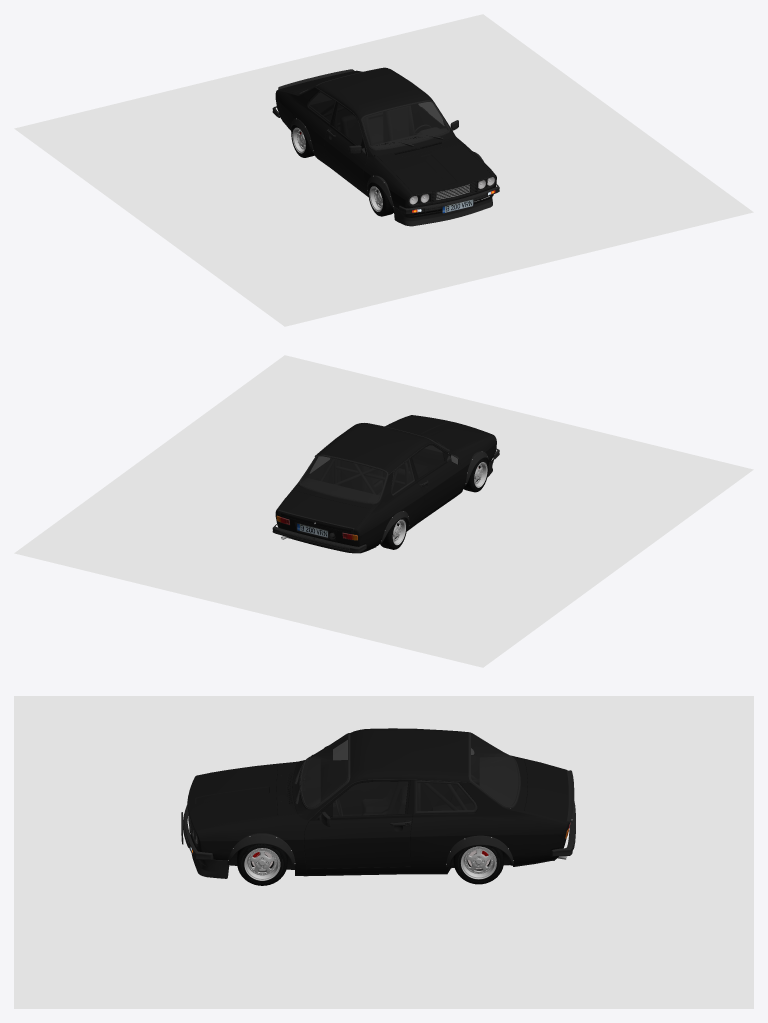
The model's file is dacia_1410_sport_tuned.glb.
The picture shows the model from 3 angles, top to bottom: view 1: azimuth 30°, elevation 25°; view 2: azimuth 150°, elevation 25°; view 3: azimuth 270°, elevation 25°; orthographic projection. The views are drawn at different scales.
Visible parts, largest first — view 1: GroundPlane_ground_0, Body_paint_0, Interior_black_flat_0, Interior_black_shiny_0, Glass2_glass_0, Interior_black_rubber_0, Glass3_glass_0; view 2: GroundPlane_ground_0, Body_paint_0, Interior_black_flat_0, Glass4_glass_0, Interior_black_rubber_0, Interior_black_shiny_0, Glass3_glass_0; view 3: GroundPlane_ground_0, Body_paint_0, Interior_black_flat_0, Glass1_glass_0, Interior_black_shiny_0, Interior_black_rubber_0, Glass4_glass_0, Glass2_glass_0, tire_T1R1_Yokohama_0, tire_T1R5_Yokohama_0, rim_RSL1_Steel_0, rim_RSL5_Steel_0.
Part boxes in pixels (<box>): GroundPlane_ground_0: <box>14,14,753,326</box>; Body_paint_0: <box>275,68,496,215</box>; Interior_black_flat_0: <box>291,91,494,204</box>; Interior_black_shiny_0: <box>275,68,497,226</box>; Glass2_glass_0: <box>362,102,448,148</box>; Interior_black_rubber_0: <box>272,67,499,214</box>; Glass3_glass_0: <box>309,92,362,145</box>; GroundPlane_ground_0: <box>14,355,753,667</box>; Body_paint_0: <box>275,415,496,553</box>; Interior_black_flat_0: <box>300,445,488,539</box>; Glass4_glass_0: <box>300,456,386,502</box>; Interior_black_rubber_0: <box>272,423,499,553</box>; Interior_black_shiny_0: <box>275,437,493,552</box>; Glass3_glass_0: <box>391,445,444,493</box>; GroundPlane_ground_0: <box>14,696,753,1008</box>; Body_paint_0: <box>187,728,569,876</box>; Interior_black_flat_0: <box>197,734,518,873</box>; Glass1_glass_0: <box>333,781,474,816</box>; Interior_black_shiny_0: <box>181,755,574,878</box>; Interior_black_rubber_0: <box>183,732,575,860</box>; Glass4_glass_0: <box>471,734,518,805</box>; Glass2_glass_0: <box>301,734,347,807</box>; tire_T1R1_Yokohama_0: <box>237,844,287,885</box>; tire_T1R5_Yokohama_0: <box>453,845,503,884</box>; rim_RSL1_Steel_0: <box>244,848,280,880</box>; rim_RSL5_Steel_0: <box>460,846,496,879</box>.
Size of the model in its own units: 8.07 by 1.25 by 8.07.
22 materials, 7 textured.
